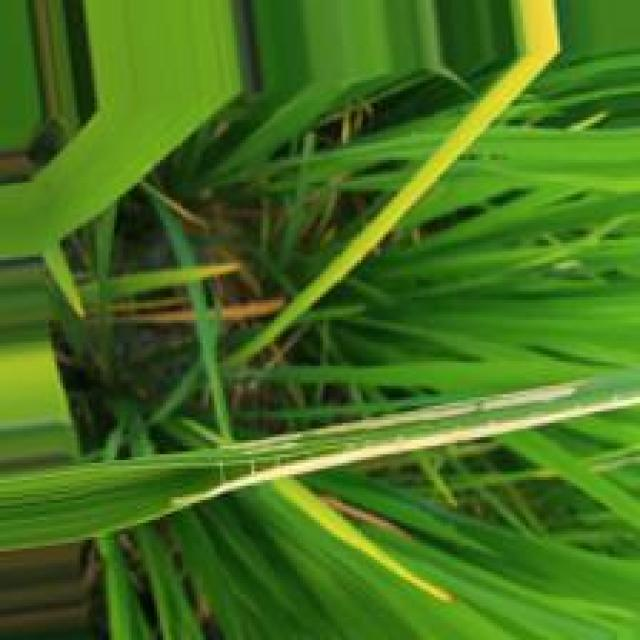Rice_Hispa: (182, 401, 640, 505), (215, 378, 580, 458)
